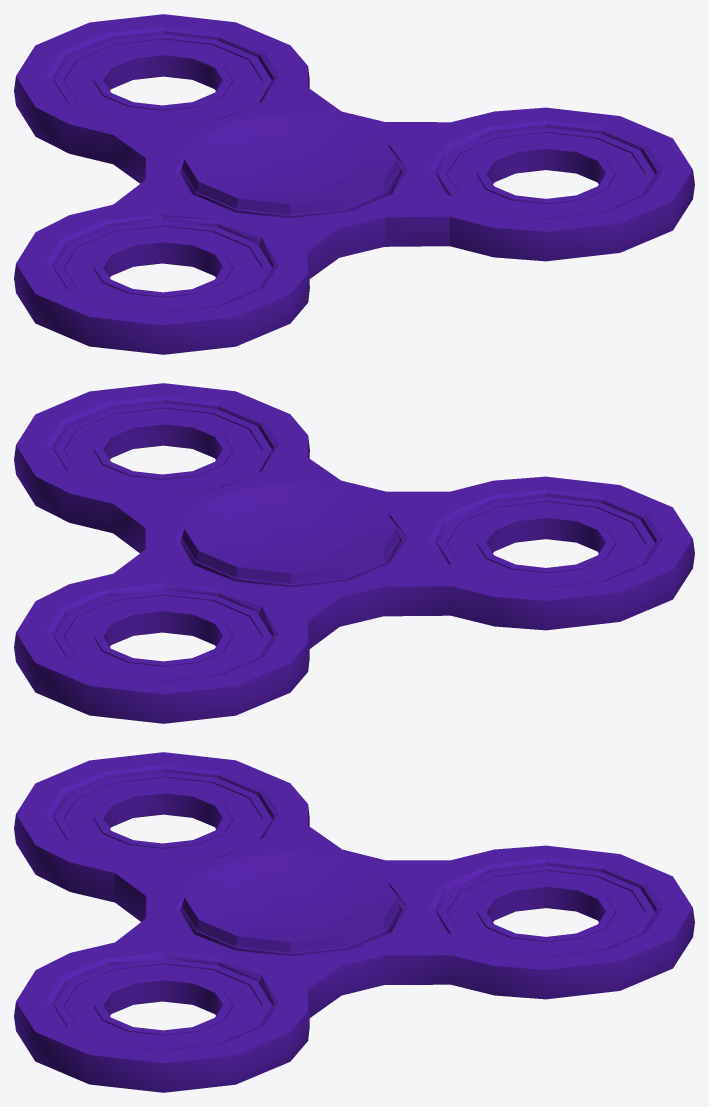
The model's file is fidget2.obj.
The picture shows the model from 3 angles, top to bottom: view 1: azimuth 30°, elevation 25°; view 2: azimuth 150°, elevation 25°; view 3: azimuth 270°, elevation 25°; orthographic projection.
Bounding box in the file's own units: 5.69 × 0.4272 × 5.24.
